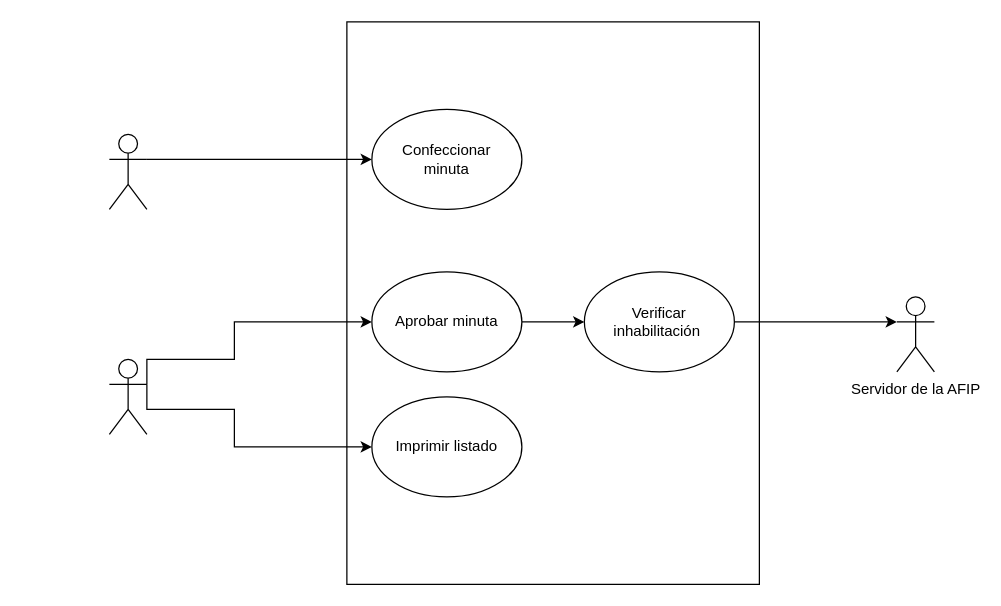
Image size: 1001x606. Some labels were removed from this diagram. Here are the shapes that lost their labels. From the top down, the box of each, then its label:
(108, 133, 147, 209): Empleado de mesa de entradas
(108, 358, 147, 434): Empleado de rendiciones
